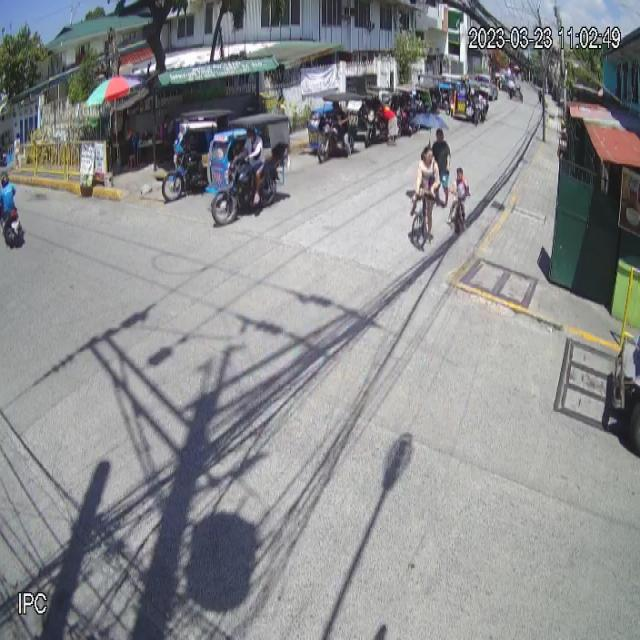Tricycle: (206, 111, 290, 227)
